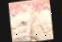plaque psoriasis: (7, 0, 54, 42)
